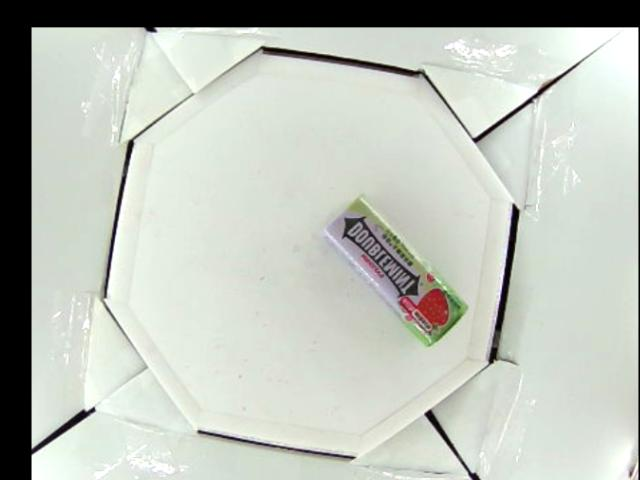Bottle: (323, 192, 467, 350)
